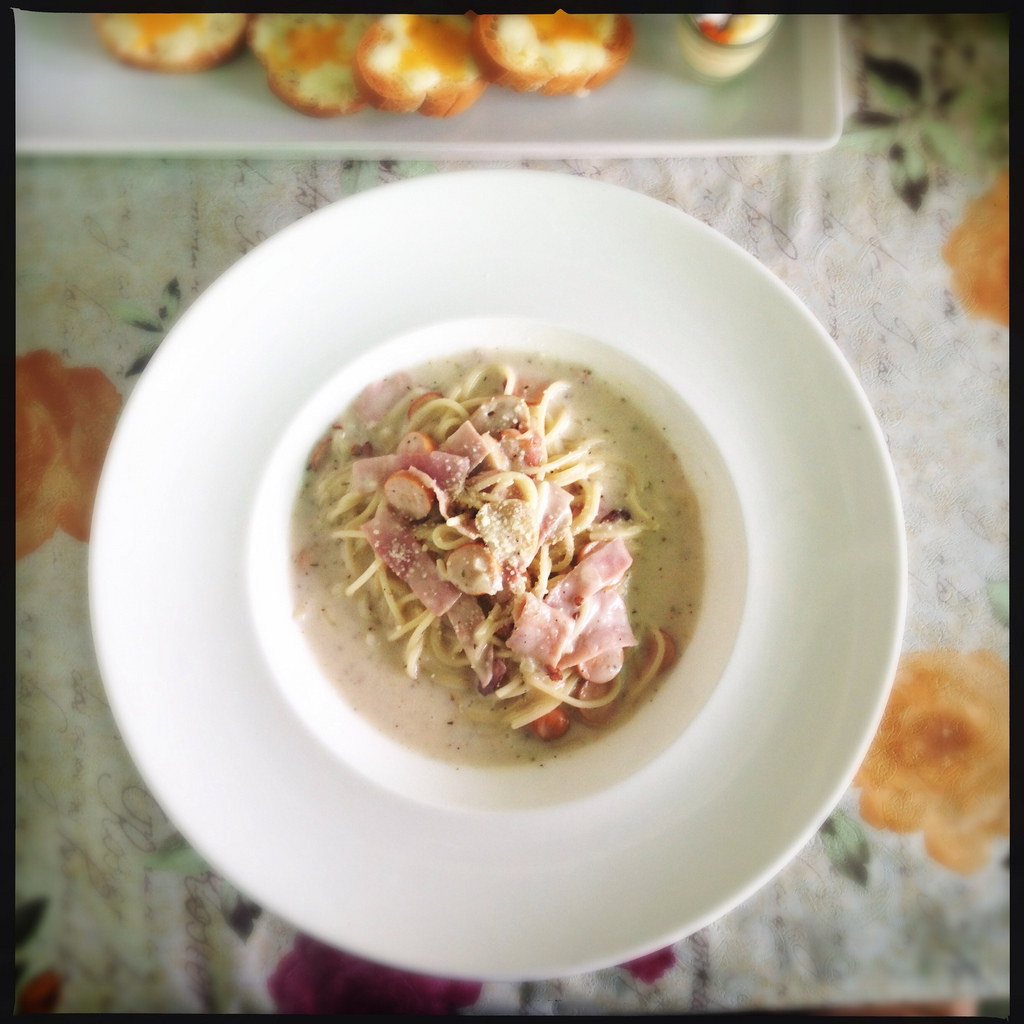plain spaghetti: (321, 397, 664, 720)
